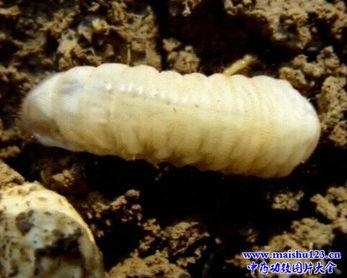grub: (23, 66, 323, 185)
